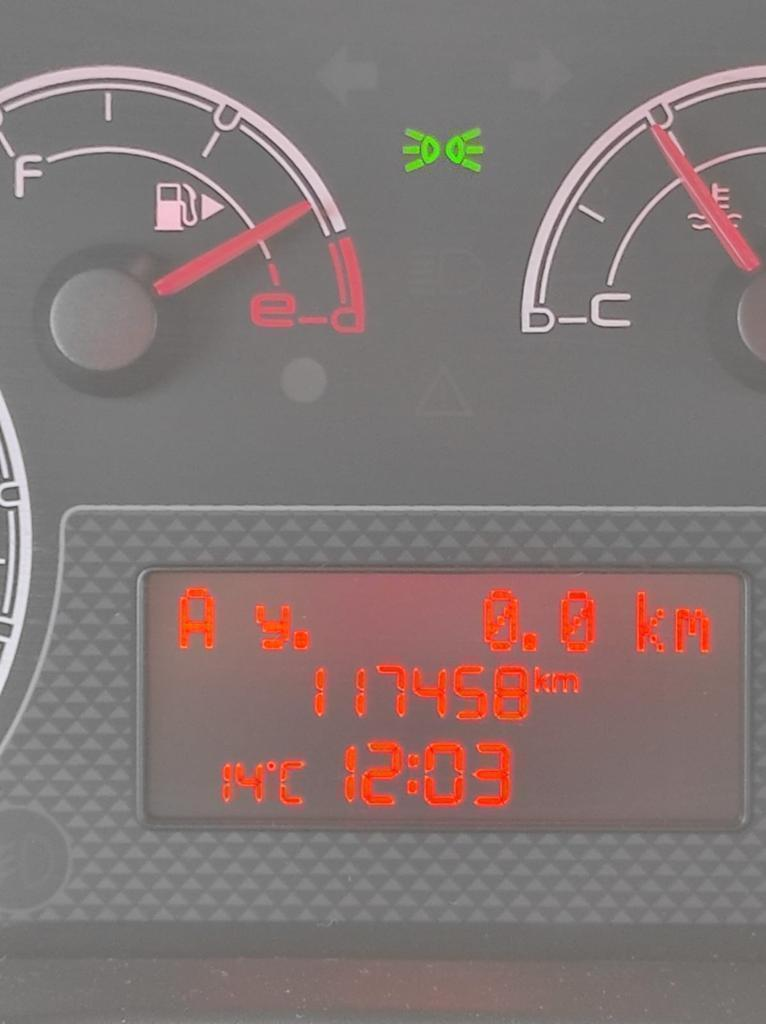,: (520, 629, 540, 654), (292, 627, 310, 651)
0: (423, 739, 466, 810), (556, 588, 597, 654), (482, 587, 520, 652)
1: (341, 741, 357, 805), (353, 664, 368, 719), (313, 663, 328, 718), (220, 761, 233, 806)
2: (360, 739, 404, 806)
3: (473, 740, 513, 807)
4: (410, 663, 449, 718), (233, 761, 266, 803)
5: (452, 663, 490, 720)
7: (375, 662, 409, 719)
8: (492, 664, 529, 722)
X: (176, 585, 217, 650), (632, 586, 668, 655), (671, 603, 711, 653), (253, 602, 291, 652), (279, 758, 305, 806), (552, 670, 580, 694), (405, 750, 419, 797), (532, 664, 551, 695)
odometer: (133, 564, 753, 834)
